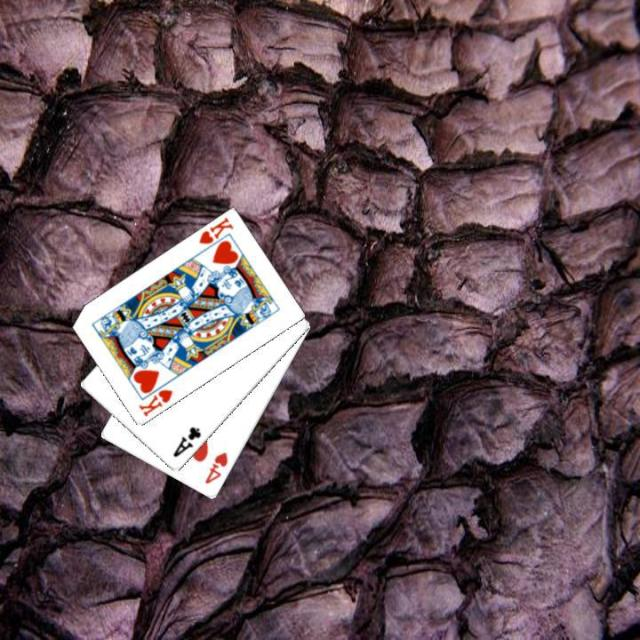4H: (201, 448, 229, 486)
AC: (169, 423, 203, 460)
KH: (194, 214, 236, 246), (134, 386, 174, 418)
